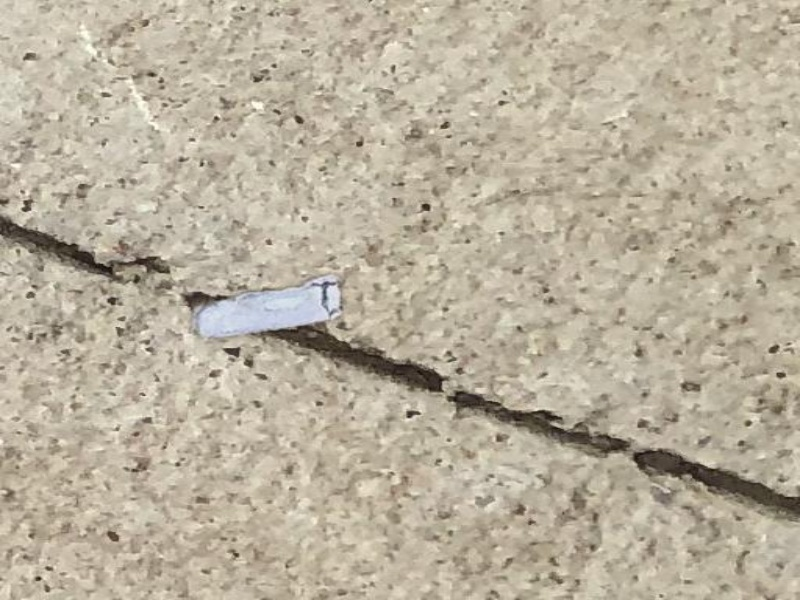cig: (177, 271, 358, 340)
